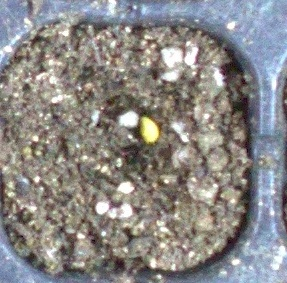chilli seed: (138, 114, 160, 143)
